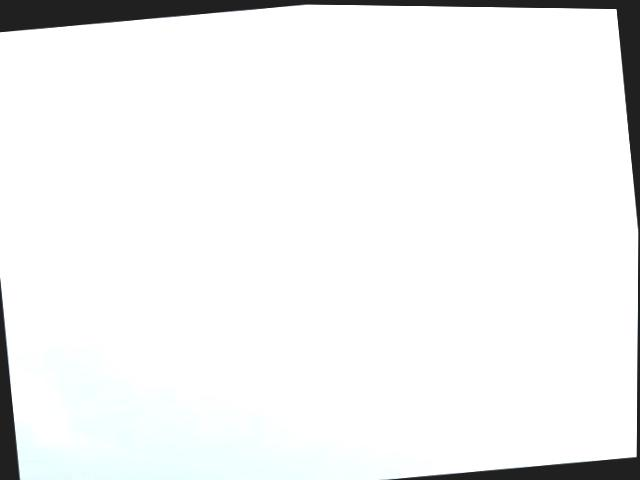iha: (324, 193, 340, 212)
